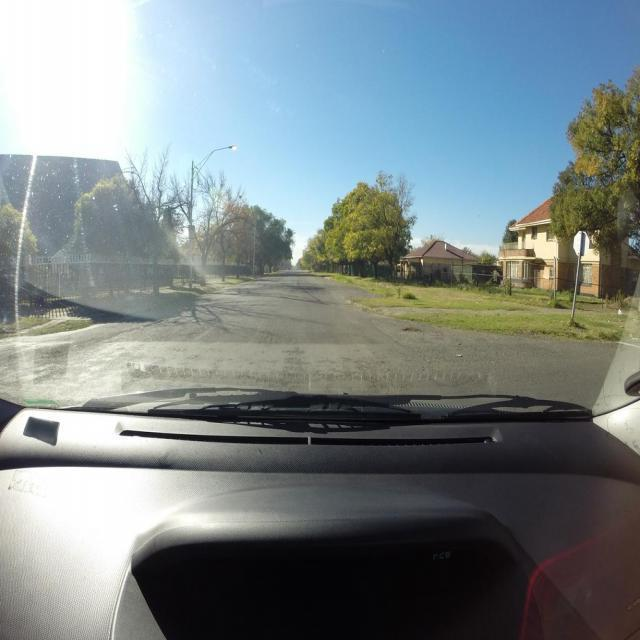pothole: (402, 328, 421, 332)
